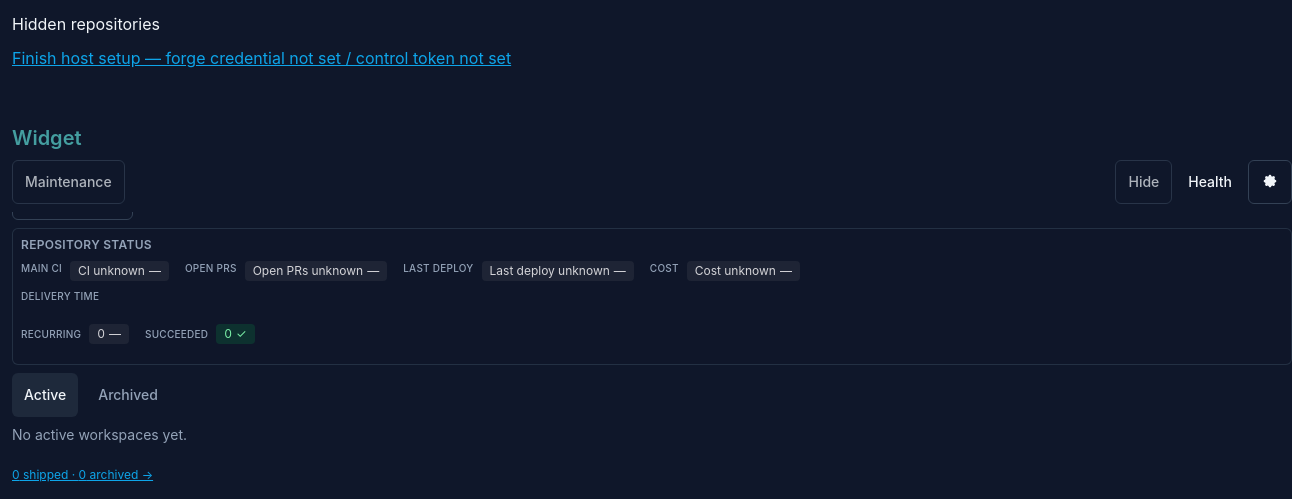
Test case: Repo — DoD: a hide outcome is reported through the durable announcement channel even when the section unmounts first › still reports the hide outcome once the request resolves, after a racing engines refetch has already redirected and unmounted the section
The image size is (1292, 499).
Click the button with test id "repo-action-hide-acme/widget": x=1144, y=182 x1=1116 y1=160 x2=1172 y2=204
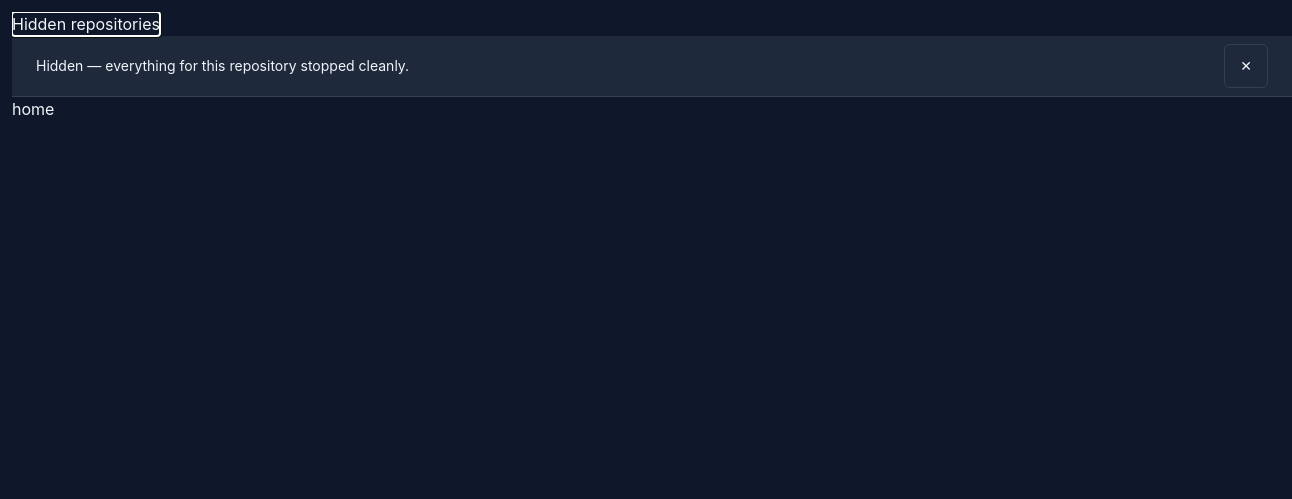
expect the text "home" is shown: met, box x1=12 y1=99 x2=54 y2=119
expect the element with test id "repo-section-acme/widget" is gone: met
expect the message with test id "hidden-repo-announcement" shows "stopped cleanly": met, box x1=36 y1=57 x2=409 y2=74
